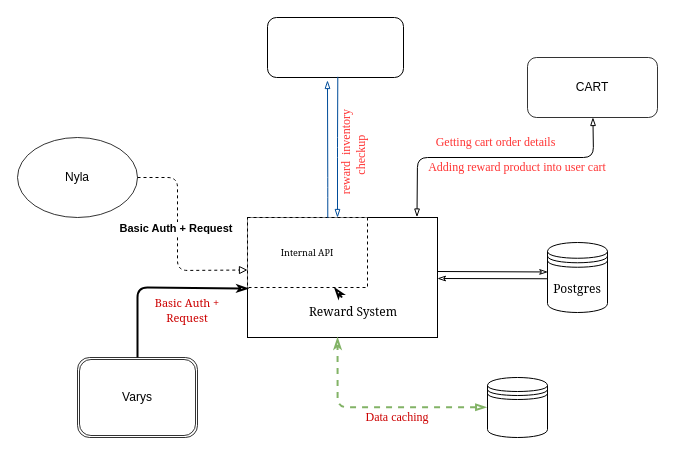
This 675x455 diagram has some shape labels left out. The shapes that lost their labels are listed below. From the top down, each one's centre as x and y in pixels, then its label:
At (335,47): "CMS".
At (517,407): "Redis".
